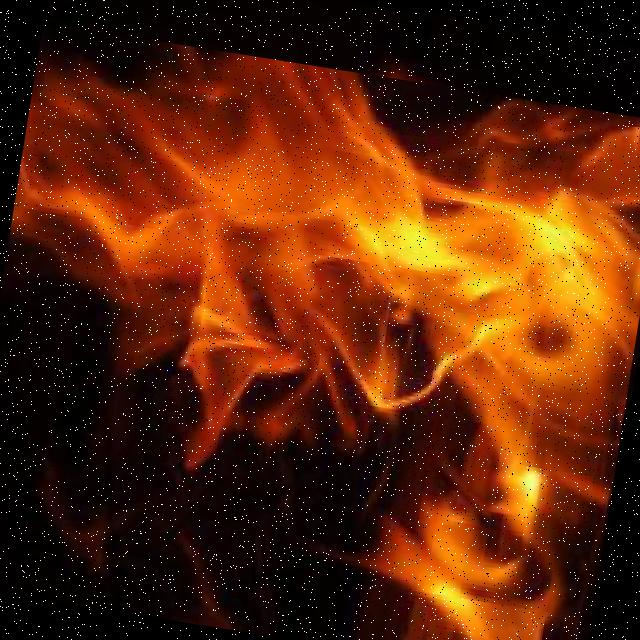fire: (0, 23, 640, 640)
